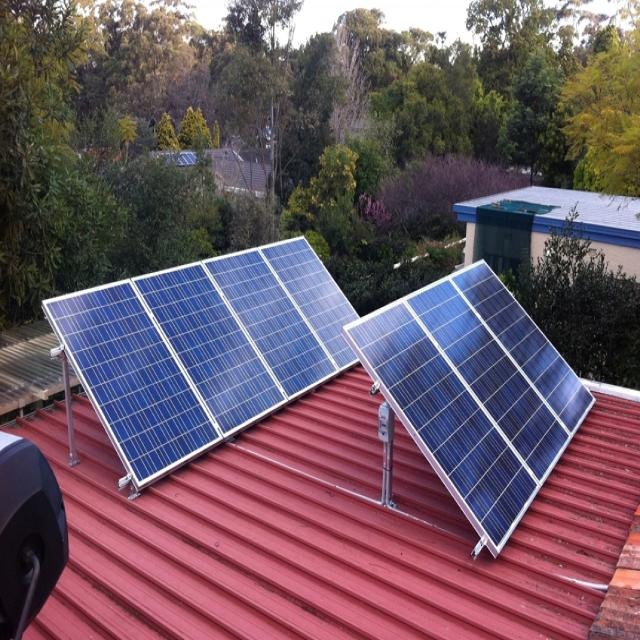no faulty: (45, 238, 355, 489), (350, 265, 591, 547)
